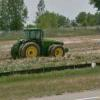Tractor: (11, 21, 76, 72)
